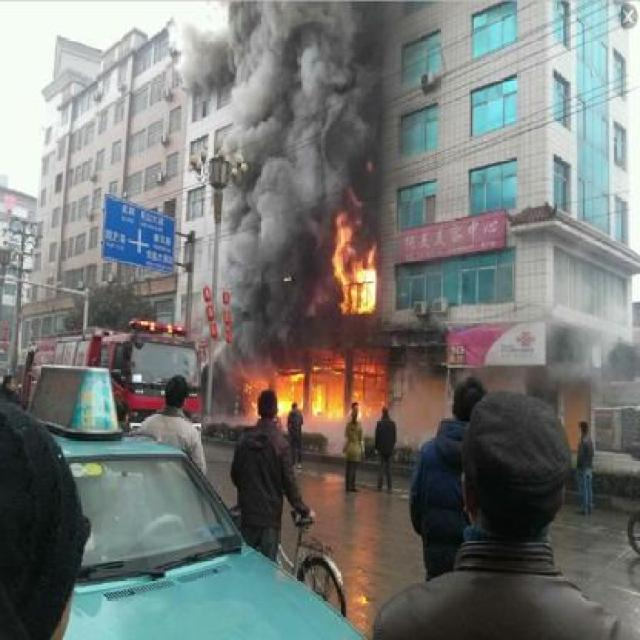Fire: (243, 356, 364, 428), (326, 195, 392, 326)
Smoke: (187, 16, 318, 345)
